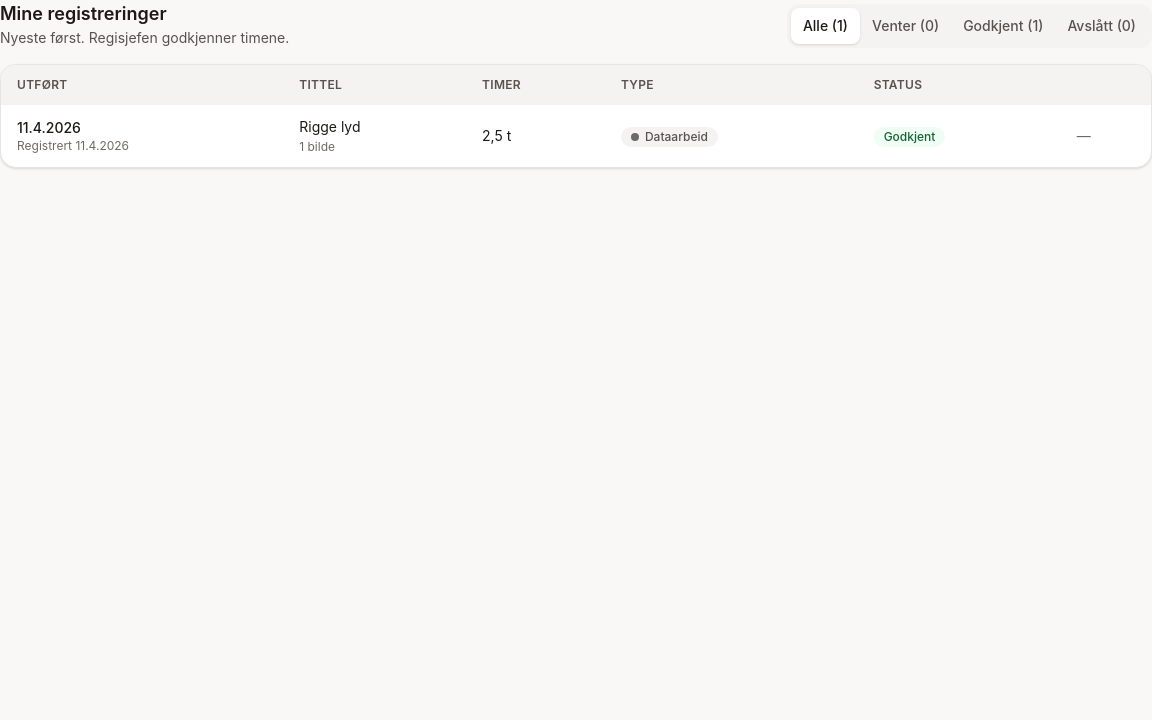
WorkLogList › opens the details modal when clicking a log row and shows reviewer comment
Click the row named "Vis Rigge lyd": [49, 128] box [1,105,1151,167]
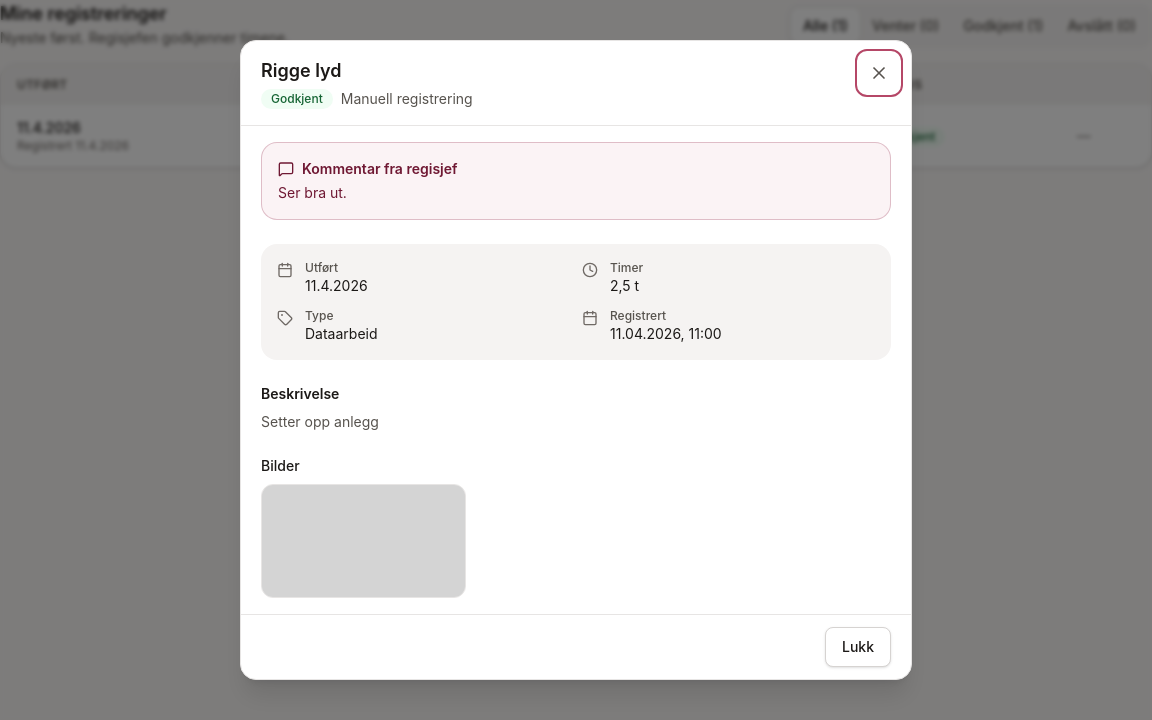
Check: the text "Kommentar fra regisjef" is shown, box [278,160,458,177]
Check: the text "Ser bra ut." is shown, box [278,184,347,201]
Check: the text "Manuell registrering" is shown, box [341,90,473,107]
